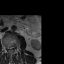CCS_severe_stenosis: (10, 45, 11, 51)
LFS_severe_stenosis: (13, 45, 15, 49)
LLS_stenosis: (11, 45, 13, 49)
RFS_stenosis: (6, 45, 8, 50)
RLS_stenosis: (8, 45, 10, 50)
